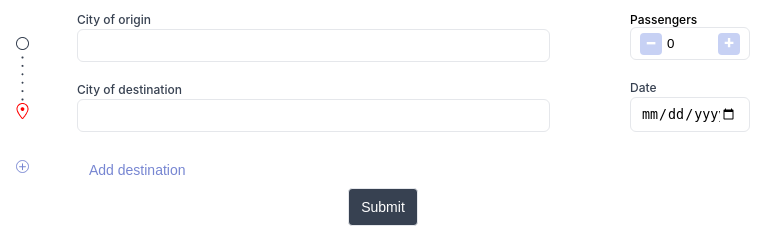
it: SearchPage form › should validate required fields
The image size is (767, 243).
Click the button "Submit" at (383, 207), box x1=348 y1=188 x2=418 y2=226
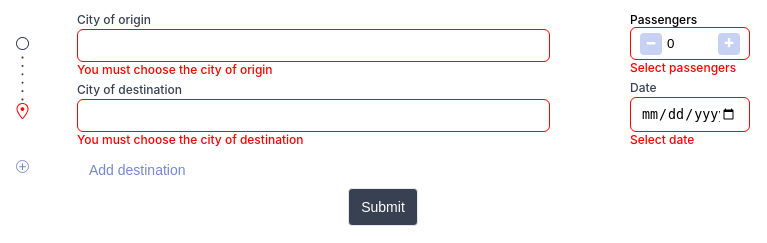
Check: the text "You must choose the city of origin" is shown, box x1=77 y1=62 x2=273 y2=77
Check: the text "You must choose the city of destination" is shown, box x1=77 y1=132 x2=304 y2=147
Check: the text "Select passengers" is shown, box x1=630 y1=60 x2=736 y2=75
